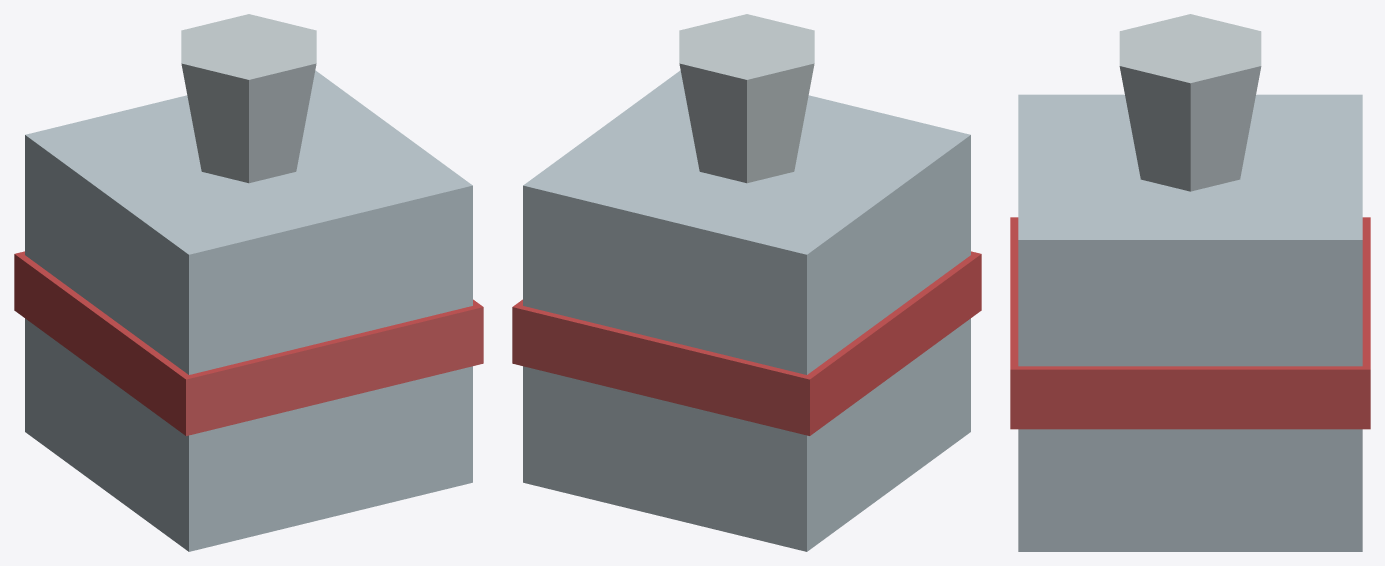
Rendered from fragile.glb.
The picture shows the model from 3 angles, left to right: view 1: azimuth 30°, elevation 25°; view 2: azimuth 150°, elevation 25°; view 3: azimuth 270°, elevation 25°; orthographic projection. The views are drawn at different scales.
Visible parts, largest first — view 1: fragile2; view 2: fragile2; view 3: fragile2.
Part boxes in pixels (x1=…): fragile2: x1=14, y1=14, x2=483, y2=551; fragile2: x1=512, y1=14, x2=981, y2=551; fragile2: x1=1010, y1=14, x2=1370, y2=551.
Bounding box in the file's own units: 0.44 × 0.58 × 0.44.
